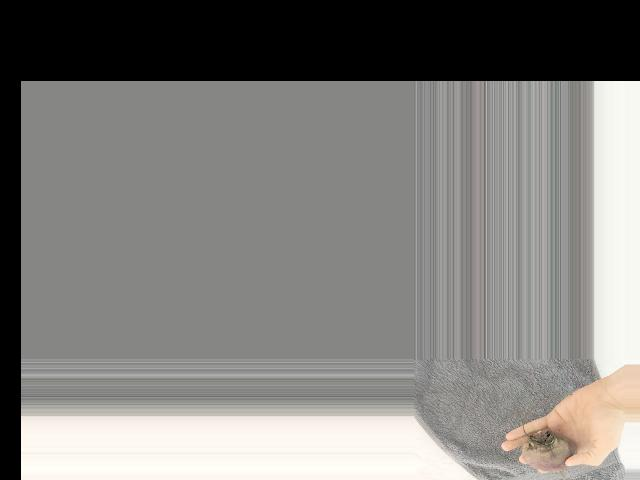beet: (522, 428, 577, 480)
